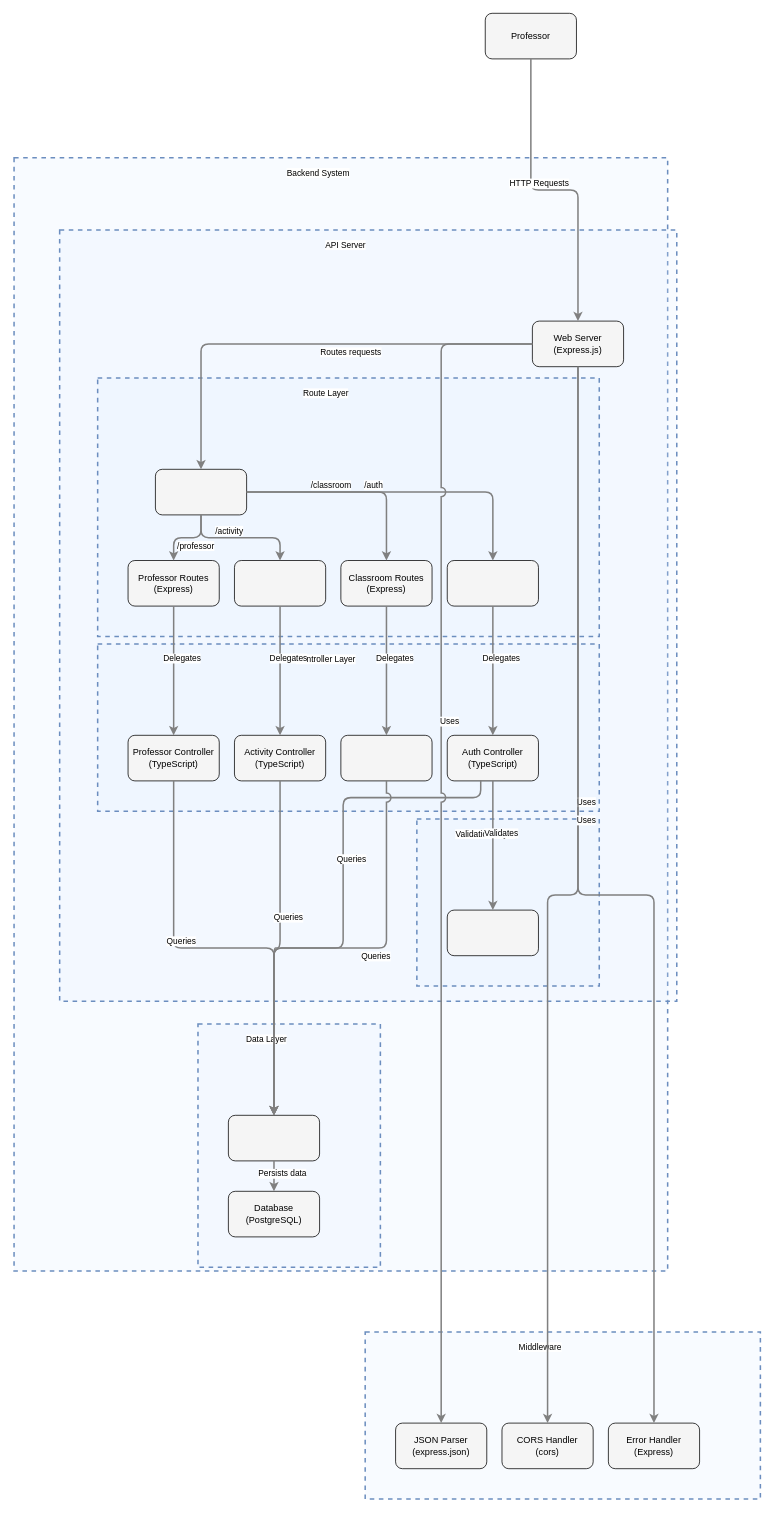
Some shapes in this 774 by 1513 pixel diagram are drawn without their labels. Here are the shapes that lost their labels. From the top down, the centre of each, then its label:
At point (201, 492): "Route Handler (Express Router)".
At point (280, 583): "Activity Routes (Express)".
At point (492, 583): "Auth Routes (Express)".
At point (386, 758): "Classroom Controller (TypeScript)".
At point (492, 932): "Schema Validator (Zod)".
At point (274, 1138): "Database ORM (Prisma)".
